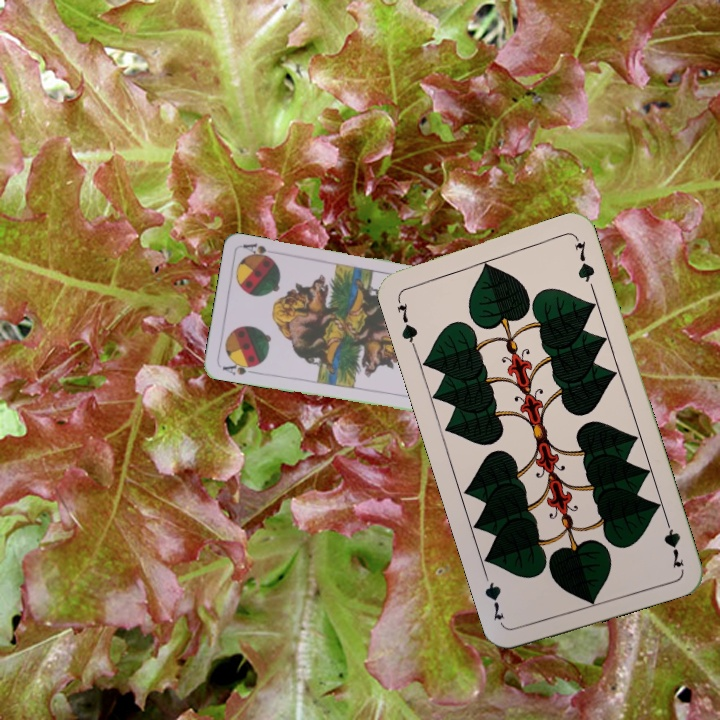G7: (659, 512, 687, 571), (392, 292, 420, 350)
SA: (219, 357, 259, 378)
